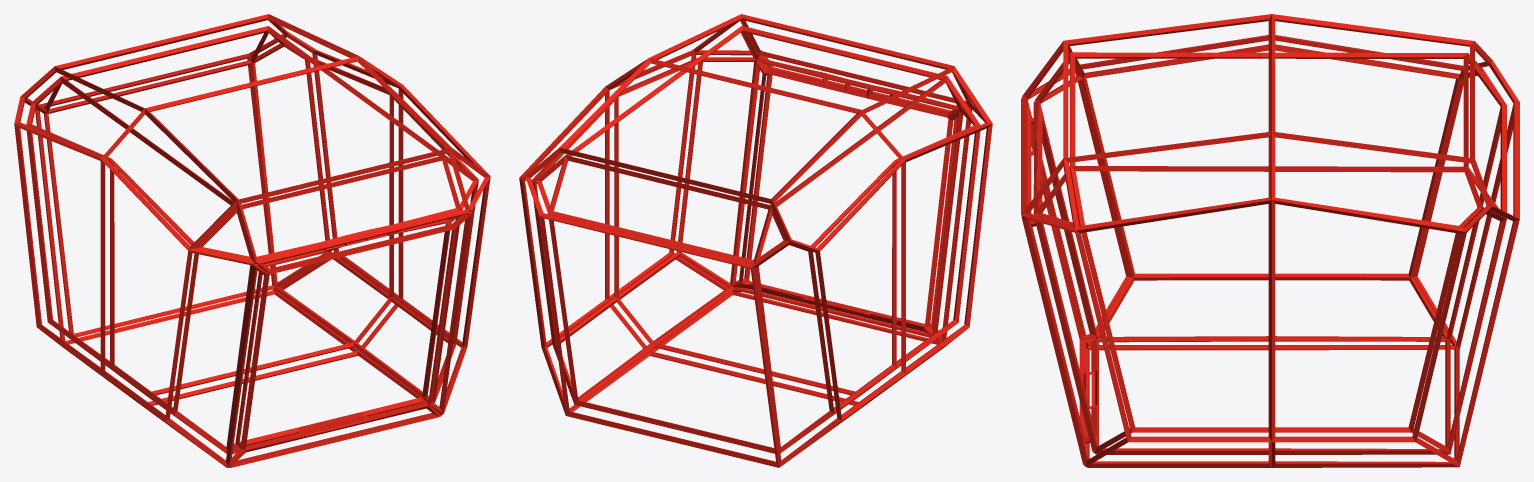
Rendered from Chassis.fbx.
The picture shows the model from 3 angles, left to right: view 1: azimuth 30°, elevation 25°; view 2: azimuth 150°, elevation 25°; view 3: azimuth 270°, elevation 25°; orthographic projection. The views are drawn at different scales.
Parts seen in each view (by area): view 1: Cube.007; view 2: Cube.007; view 3: Cube.007.
Part boxes in pixels (box(x1,y1,x2,y2)): Cube.007: box(14, 14, 490, 467); Cube.007: box(519, 14, 992, 467); Cube.007: box(1021, 14, 1519, 467).
Bounding box in the file's own units: 577 × 546 × 733.
